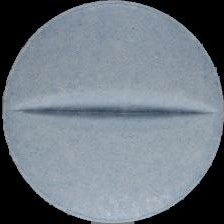55289-600: (0, 0, 224, 224)
